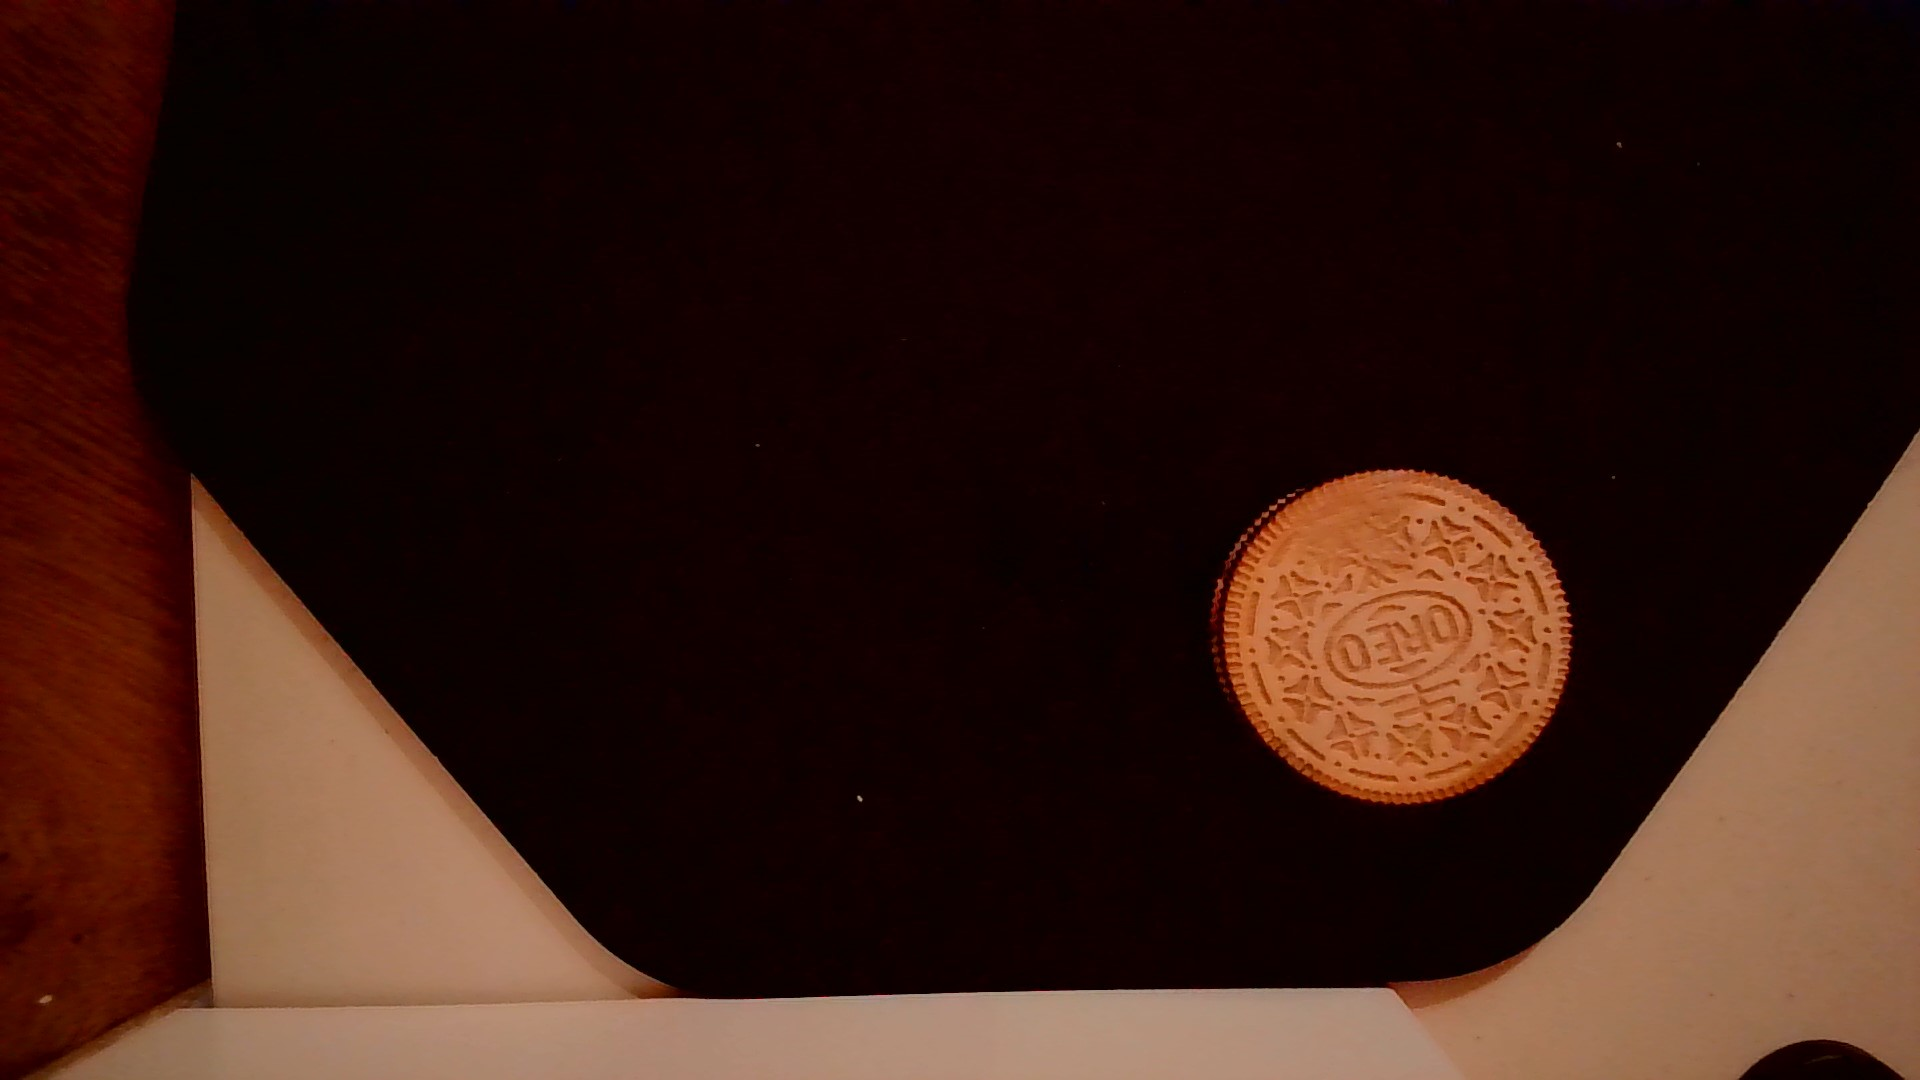Effacé: (1263, 473, 1410, 568)
Oréo: (1203, 464, 1578, 814)
